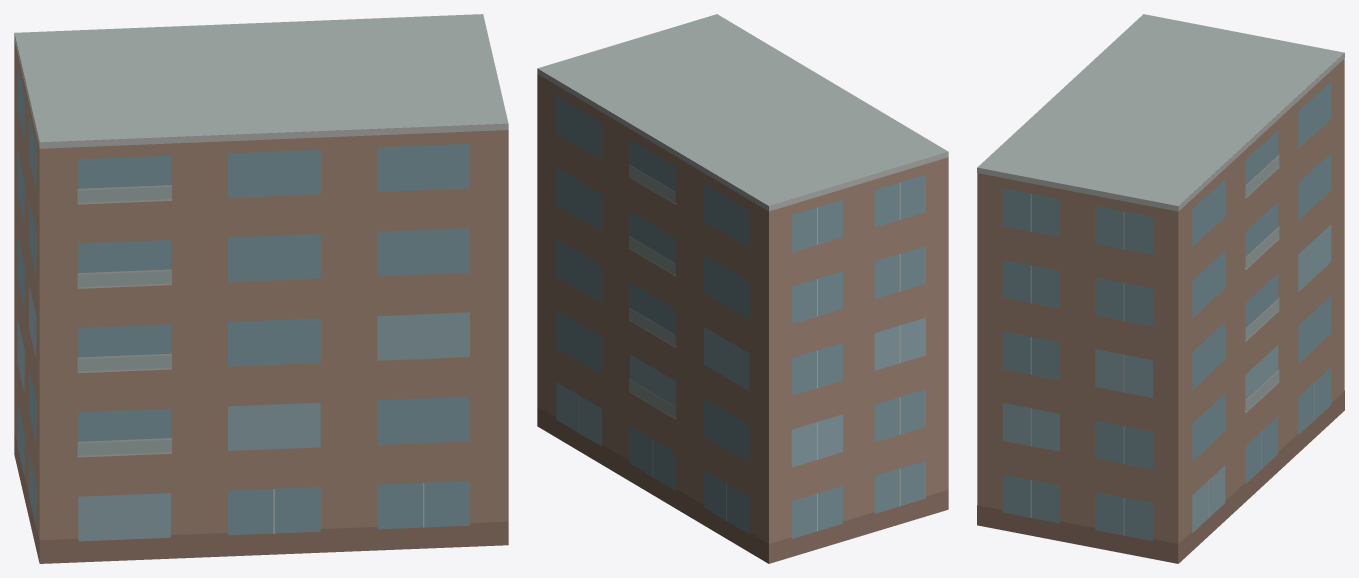
Rendered from survey-upis-32532774.glb.
3 renders of one model, left to right at view 1: azimuth 30°, elevation 25°; view 2: azimuth 150°, elevation 25°; view 3: azimuth 270°, elevation 25°, orthographic. The views are drawn at different scales.
Visible parts, largest first — view 1: survey-upis-32532774.tmp; view 2: survey-upis-32532774.tmp; view 3: survey-upis-32532774.tmp.
Part boxes in pixels (left/top/right/bottom): survey-upis-32532774.tmp: left=14, top=14, right=508, bottom=563; survey-upis-32532774.tmp: left=537, top=14, right=948, bottom=563; survey-upis-32532774.tmp: left=977, top=14, right=1344, bottom=563.
Bounding box in the file's own units: 18.32 × 15.9 × 14.82.
